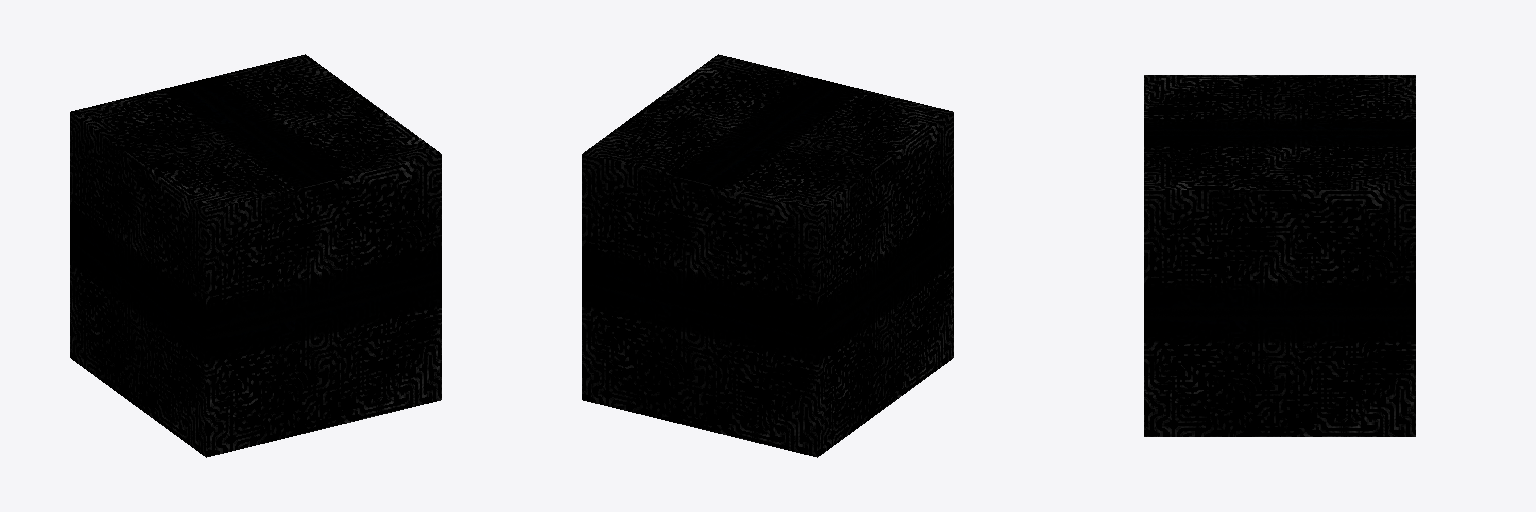
3 renders of one model, left to right at view 1: azimuth 30°, elevation 25°; view 2: azimuth 150°, elevation 25°; view 3: azimuth 270°, elevation 25°, orthographic.
Visible parts, largest first — view 1: Cube; view 2: Cube; view 3: Cube.
Boxes of the visible parts, x1=… form: Cube: x1=70, y1=54, x2=441, y2=457; Cube: x1=582, y1=54, x2=953, y2=457; Cube: x1=1144, y1=75, x2=1415, y2=436.
Bounding box in the file's own units: 2 × 2 × 2.
Materials: 1 (1 with a texture image).